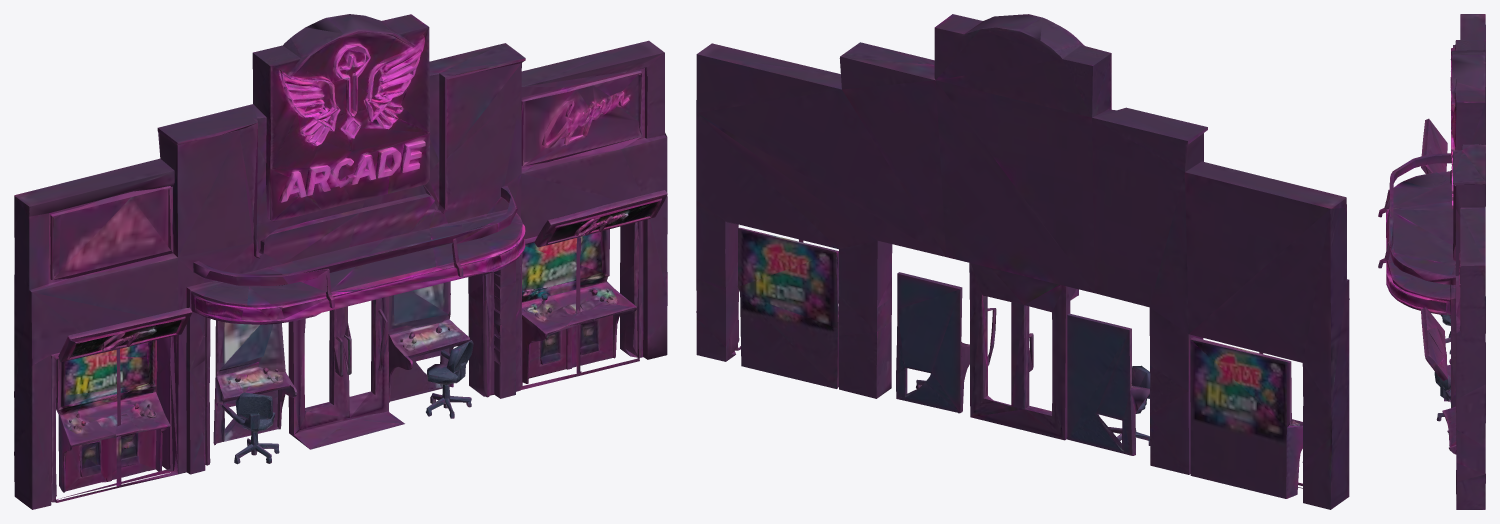
File: mx_bld_arcade.glb
The picture shows the model from 3 angles, left to right: view 1: azimuth 30°, elevation 25°; view 2: azimuth 150°, elevation 25°; view 3: azimuth 270°, elevation 25°; orthographic projection. The views are drawn at different scales.
Bounding box in the file's own units: 1.9 × 1.15 × 0.3444.
1 material, 1 textured.
